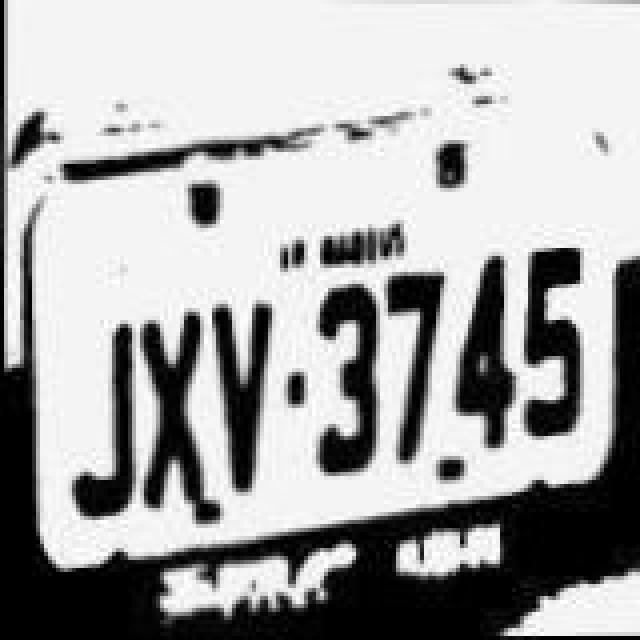3: (306, 278, 386, 494)
4: (442, 240, 518, 464)
5: (508, 238, 588, 458)
7: (376, 268, 448, 484)
J: (66, 294, 146, 522)
V: (202, 290, 274, 494)
X: (134, 288, 206, 516)
